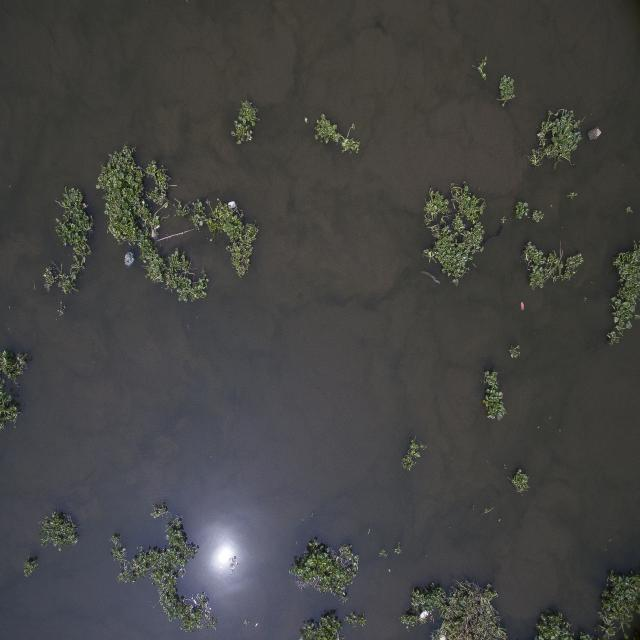plastic: (118, 242, 145, 272), (414, 604, 434, 629), (223, 198, 245, 220), (438, 628, 449, 640)
